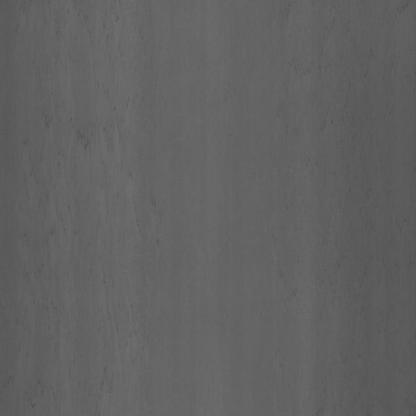silk_spot: (6, 101, 123, 294)
